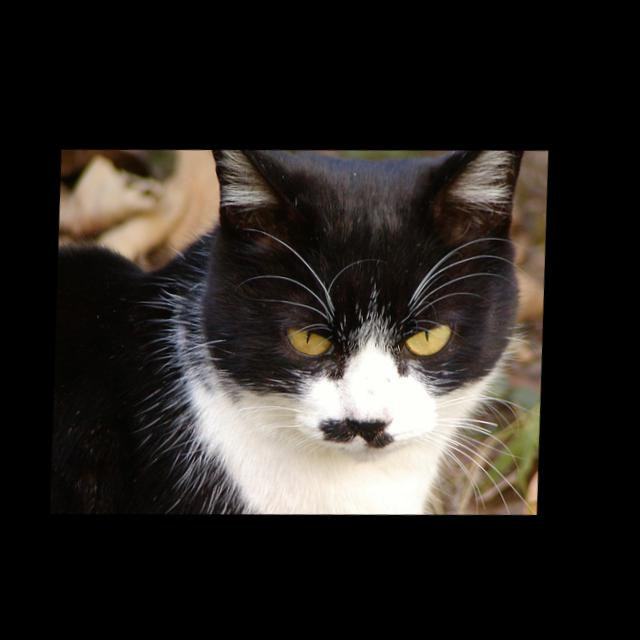animals: (189, 137, 532, 445)
